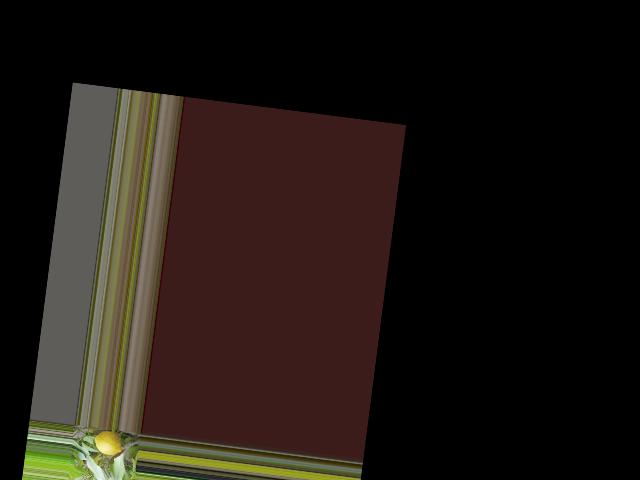lemon: (91, 429, 125, 460)
